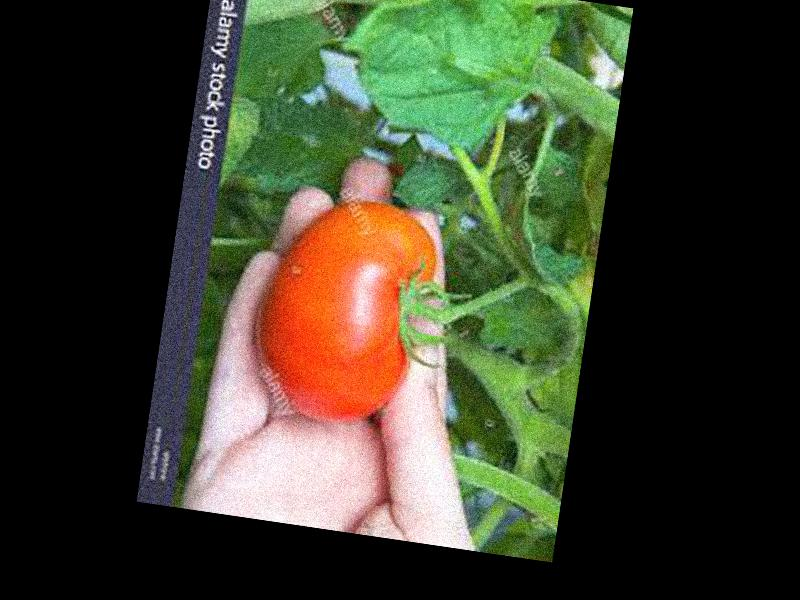Tomato: (249, 189, 443, 435)
